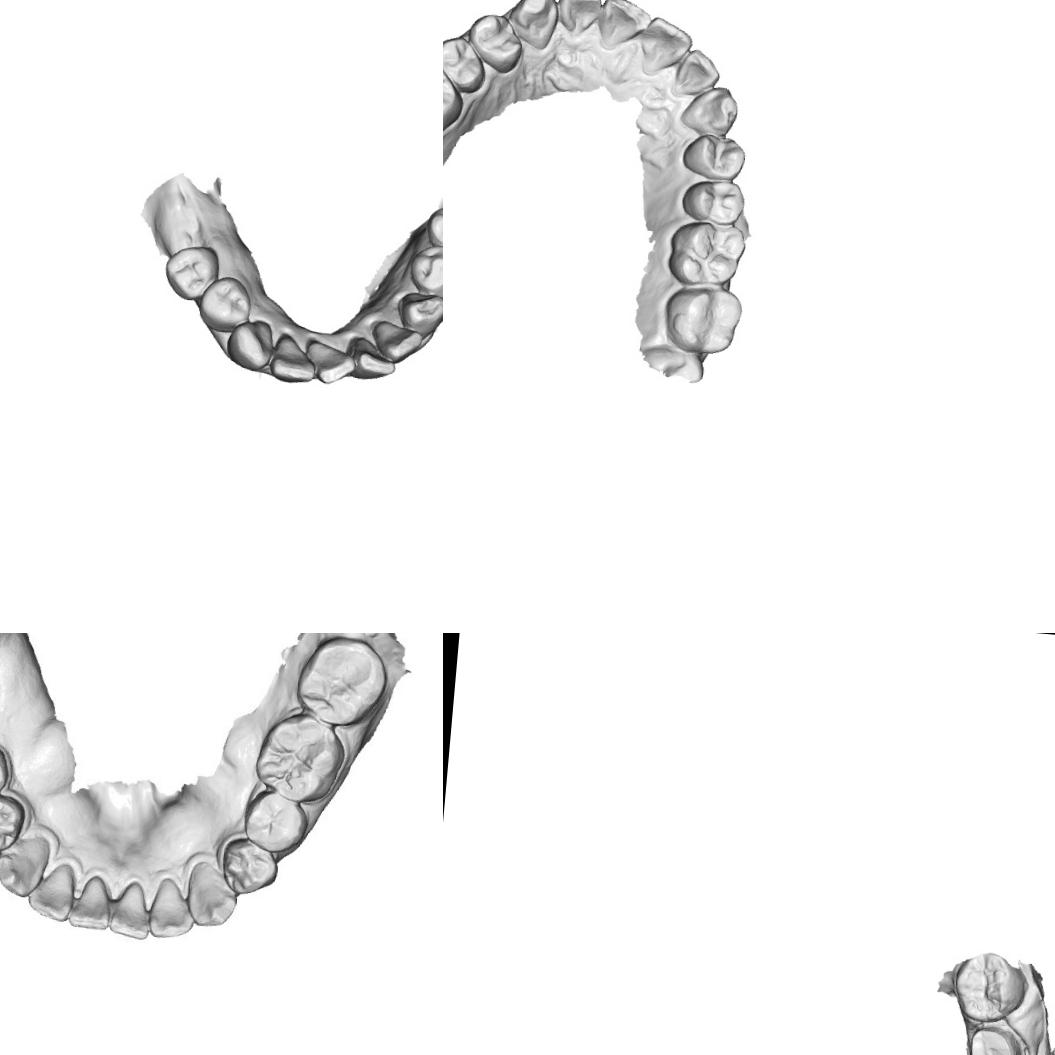canine: (186, 863, 244, 932), (0, 829, 53, 901), (676, 81, 742, 138), (505, 0, 561, 51), (224, 318, 274, 371), (393, 288, 443, 337)
crown: (962, 1022, 1028, 1055)
incisor: (635, 12, 696, 78), (143, 872, 198, 943), (24, 858, 77, 923), (594, 0, 655, 54), (107, 876, 154, 942), (670, 44, 723, 100), (67, 872, 114, 933), (267, 330, 318, 386), (304, 333, 356, 386), (369, 318, 424, 367), (351, 338, 400, 384), (553, 0, 604, 38)
molar: (250, 708, 349, 808), (290, 633, 390, 730), (660, 280, 746, 358), (947, 948, 1028, 1027), (664, 216, 748, 288), (443, 51, 467, 145)
premolar: (239, 787, 311, 857), (463, 9, 526, 76), (217, 835, 282, 898), (160, 240, 221, 303), (678, 173, 747, 228), (194, 272, 256, 333), (678, 130, 748, 182), (443, 32, 489, 95), (404, 242, 443, 303), (0, 789, 29, 855), (423, 200, 443, 257)
